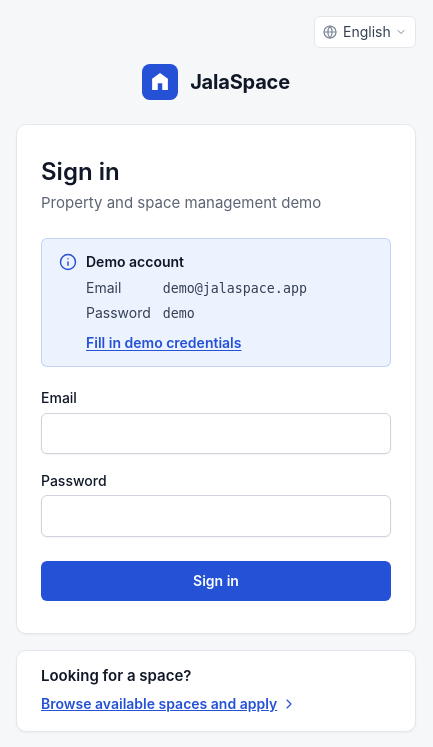
Scenario: demo authentication flow › does not submit an empty form
Step 1. Click the button "Sign in" → (216, 581), box [41,561,391,601]
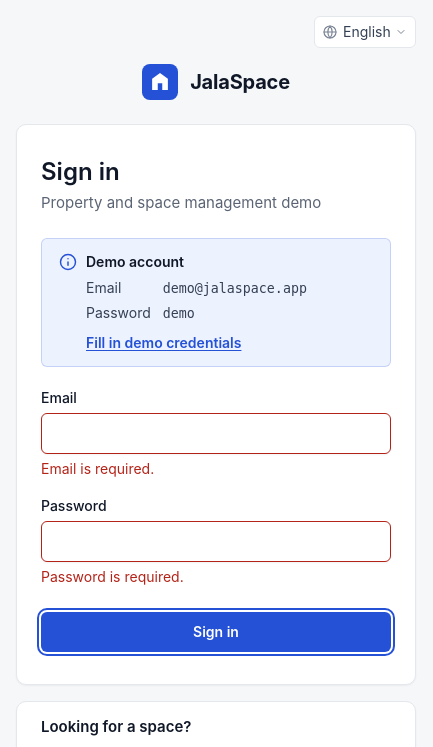
Now the text "Email is required." is shown, box [41,460,154,477]
Now the text "Password is required." is shown, box [41,568,184,585]
